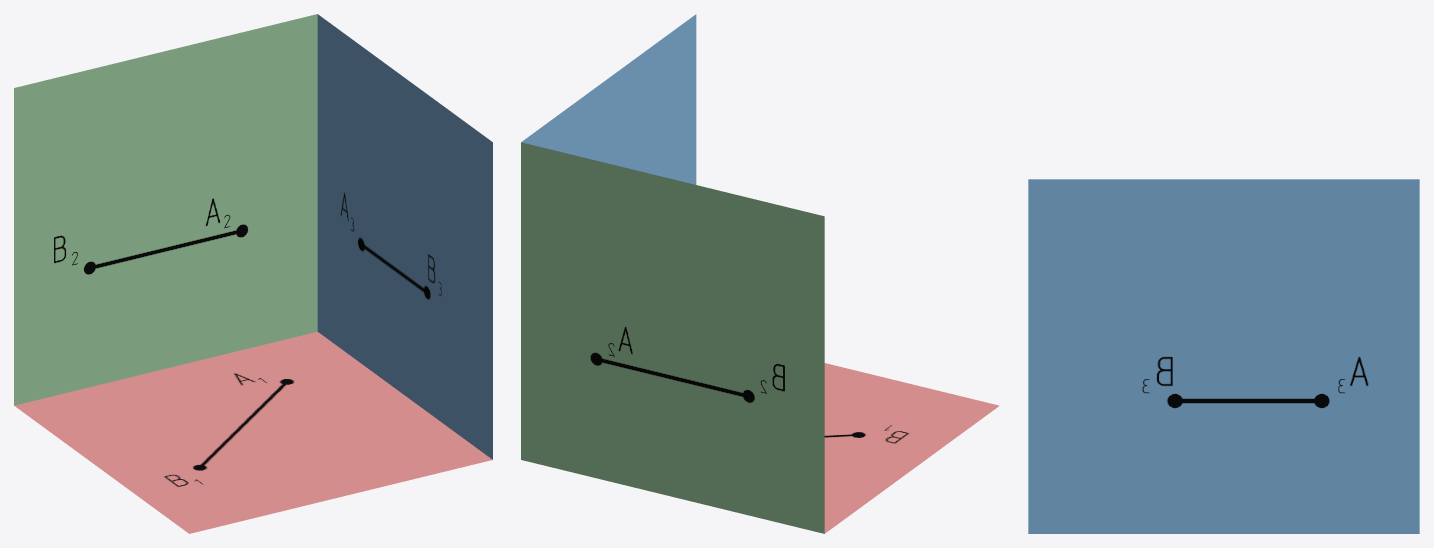
Rendered from planes.glb.
3 renders of one model, left to right at view 1: azimuth 30°, elevation 25°; view 2: azimuth 150°, elevation 25°; view 3: azimuth 270°, elevation 25°, orthographic. The views are drawn at different scales.
Parts seen in each view (by area): view 1: p2, p3, p1; view 2: p2, p1, p3; view 3: p3.
Part boxes in pixels (bbox=[...]): p2: bbox=[14, 14, 317, 405]; p3: bbox=[317, 14, 492, 459]; p1: bbox=[14, 331, 492, 533]; p2: bbox=[521, 142, 824, 533]; p1: bbox=[824, 363, 999, 533]; p3: bbox=[521, 14, 696, 184]; p3: bbox=[1028, 179, 1419, 533].
Size of the model in its own units: 4 by 4 by 4.
Materials: 3 (3 with a texture image).
